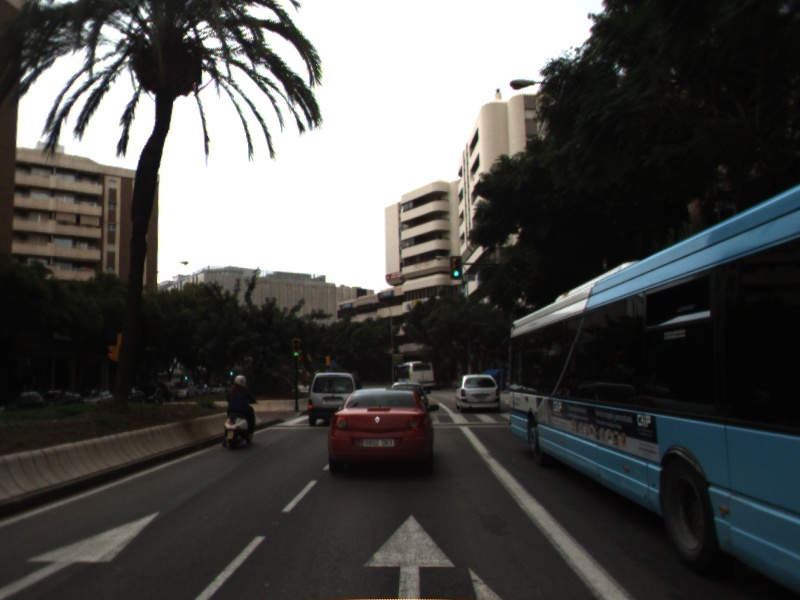STRAIGHT: (1, 507, 167, 600), (358, 509, 461, 600)
